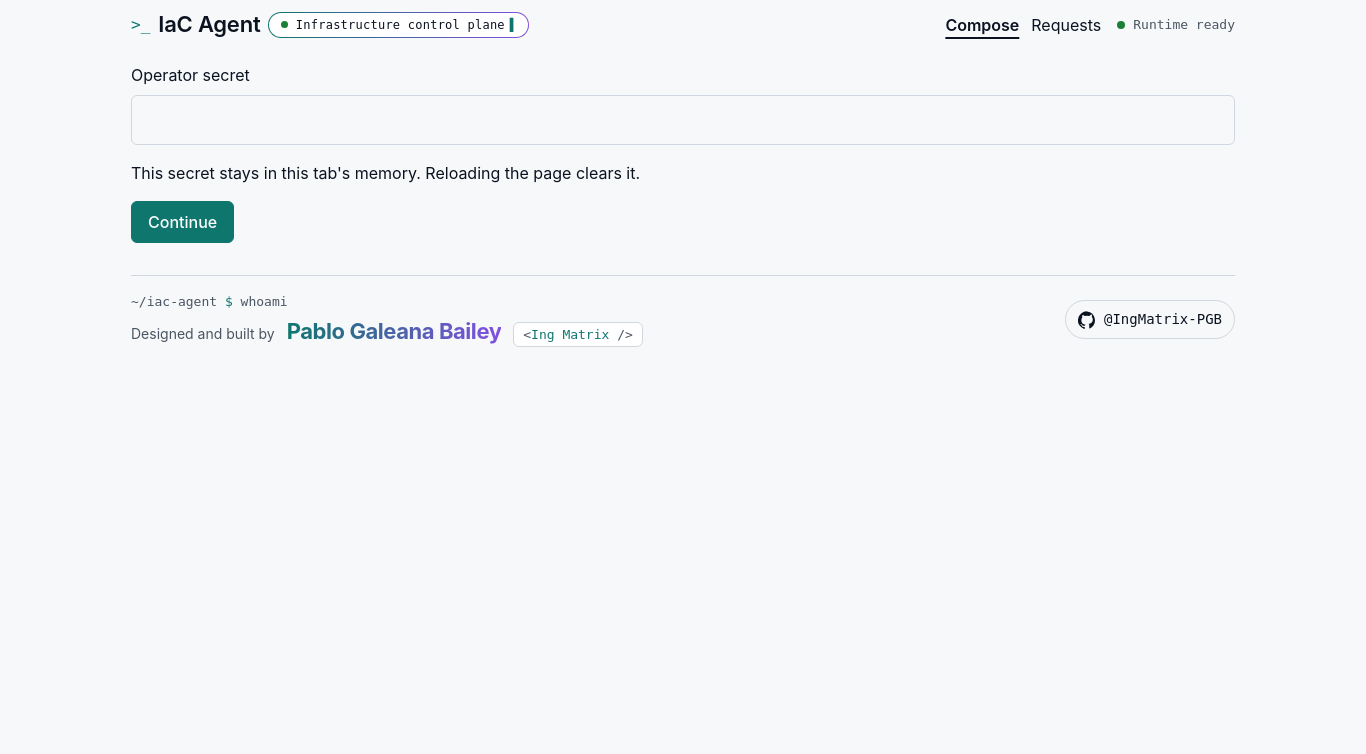
Scenario: operator shell › distinguishes a network failure from an API error
The width and height of the screenshot is (1366, 754).
Type "test-operator-secret" into the password field labelled "Operator secret". click: x=683, y=120
box: [131,94,1235,144]
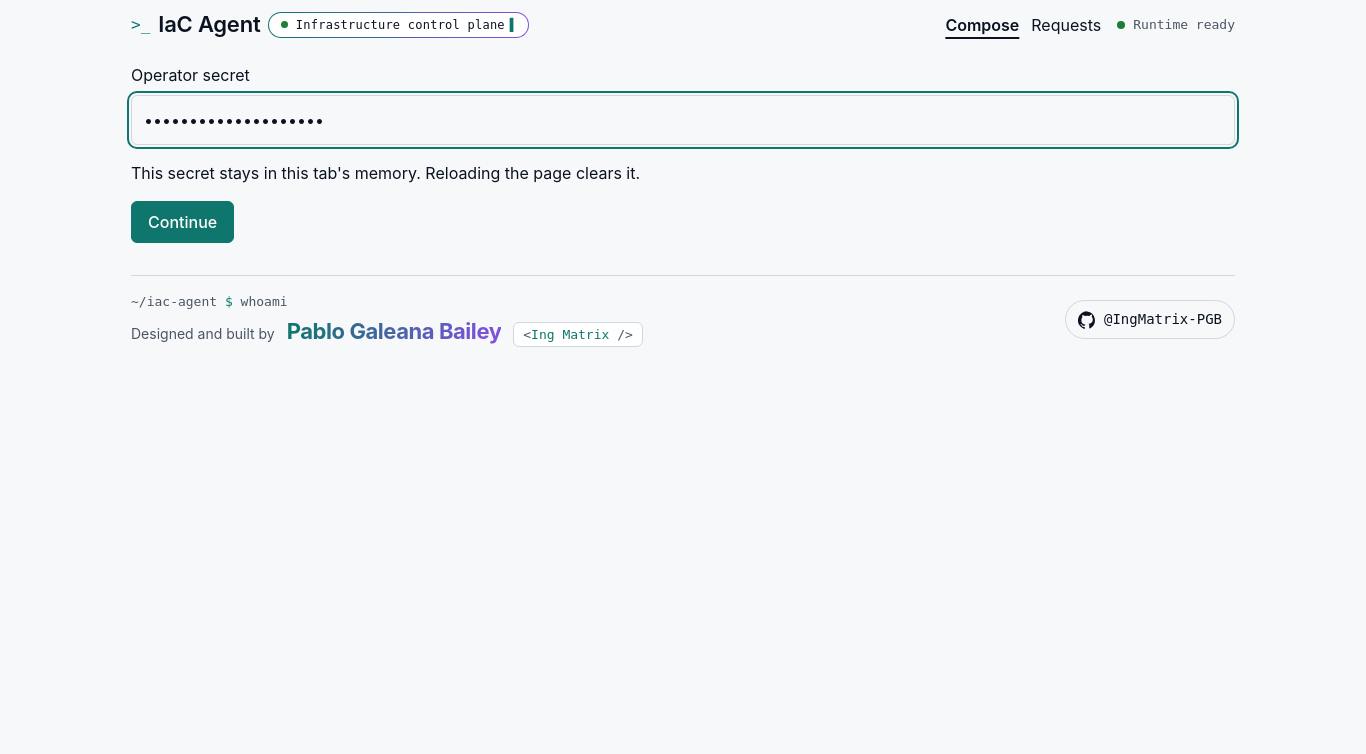
Click the button "Continue". click: x=183, y=222
box: [131,200,234,242]
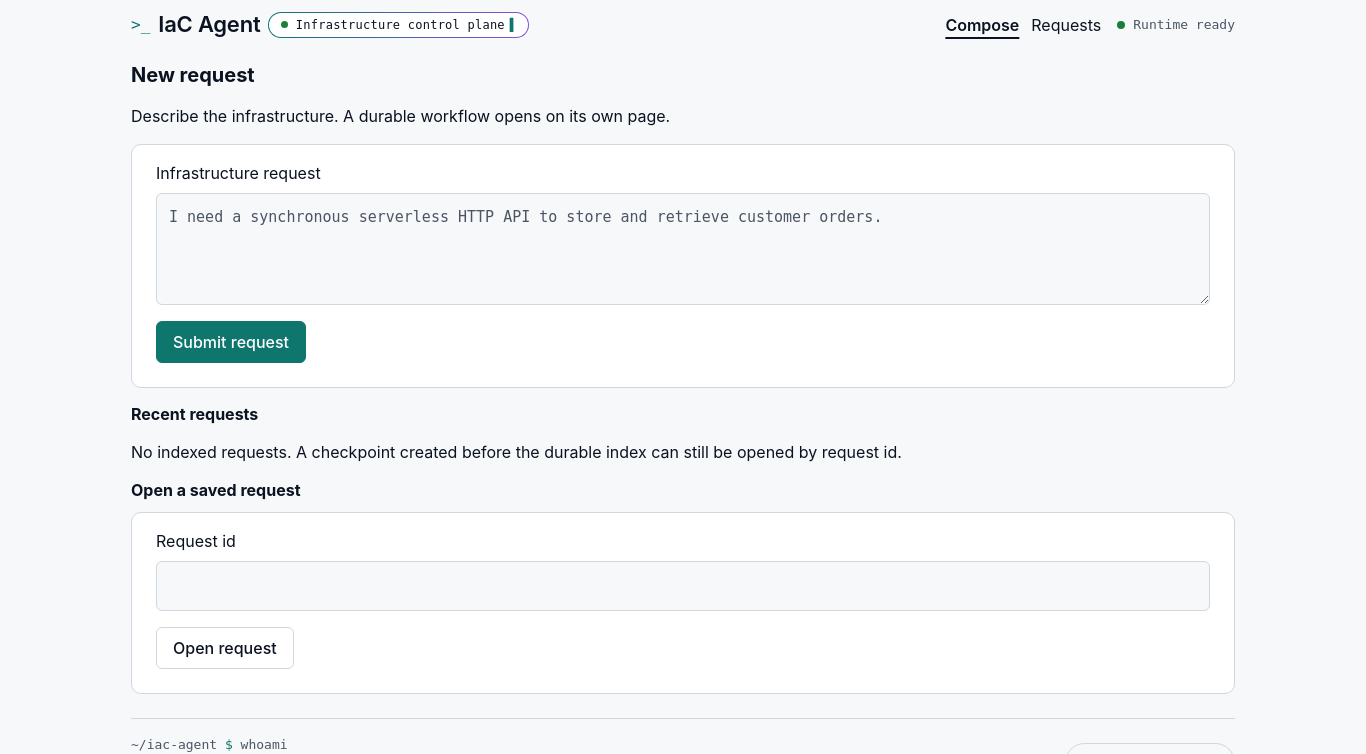
Type "build a queue" into the text box labelled "Infrastructure request". click: x=683, y=248
box: [156,192,1210,304]
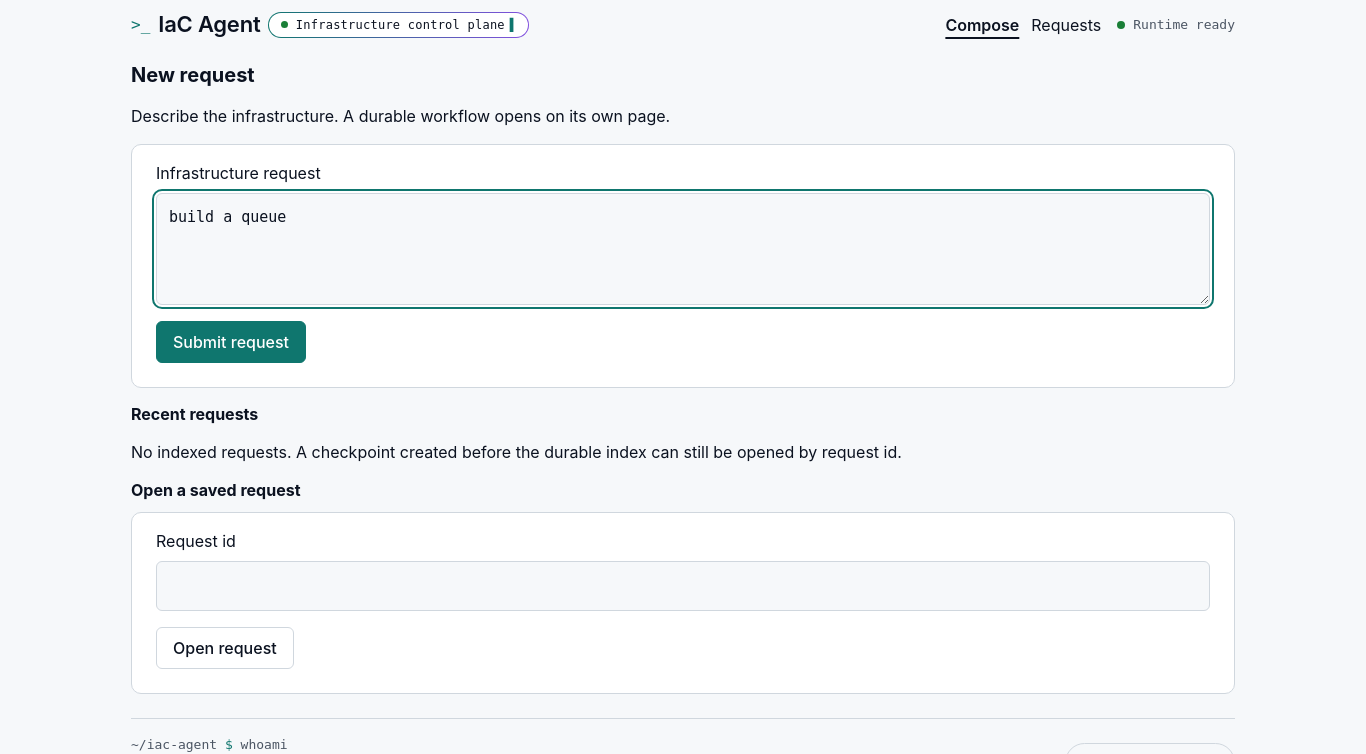
Click the button "Submit request". click: x=231, y=342
box: [156,320,306,362]
(page scrolled)
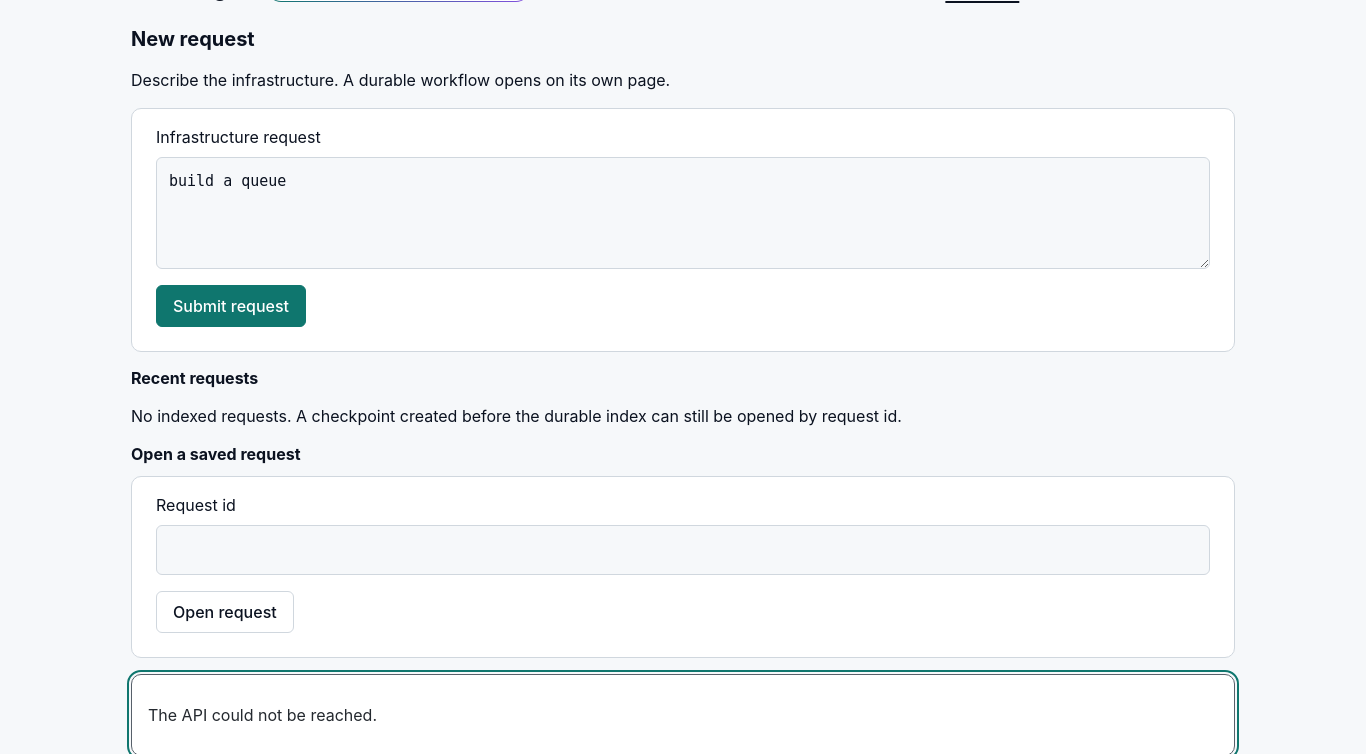
Expected: the message reads "The API could not be reached.", [148,704,377,724]
